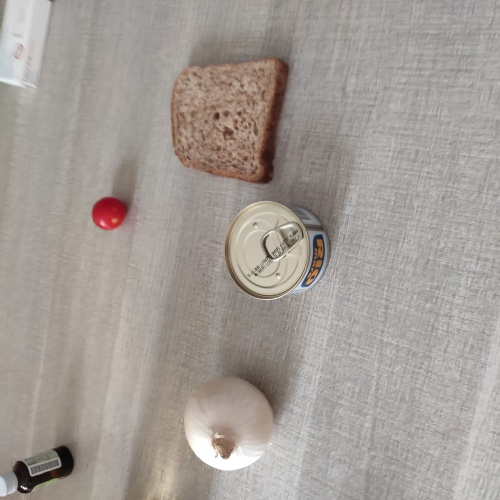cipolla: (178, 371, 284, 477)
pane: (168, 58, 298, 188)
pomodoro: (88, 193, 130, 235)
tonno: (221, 196, 331, 306)
